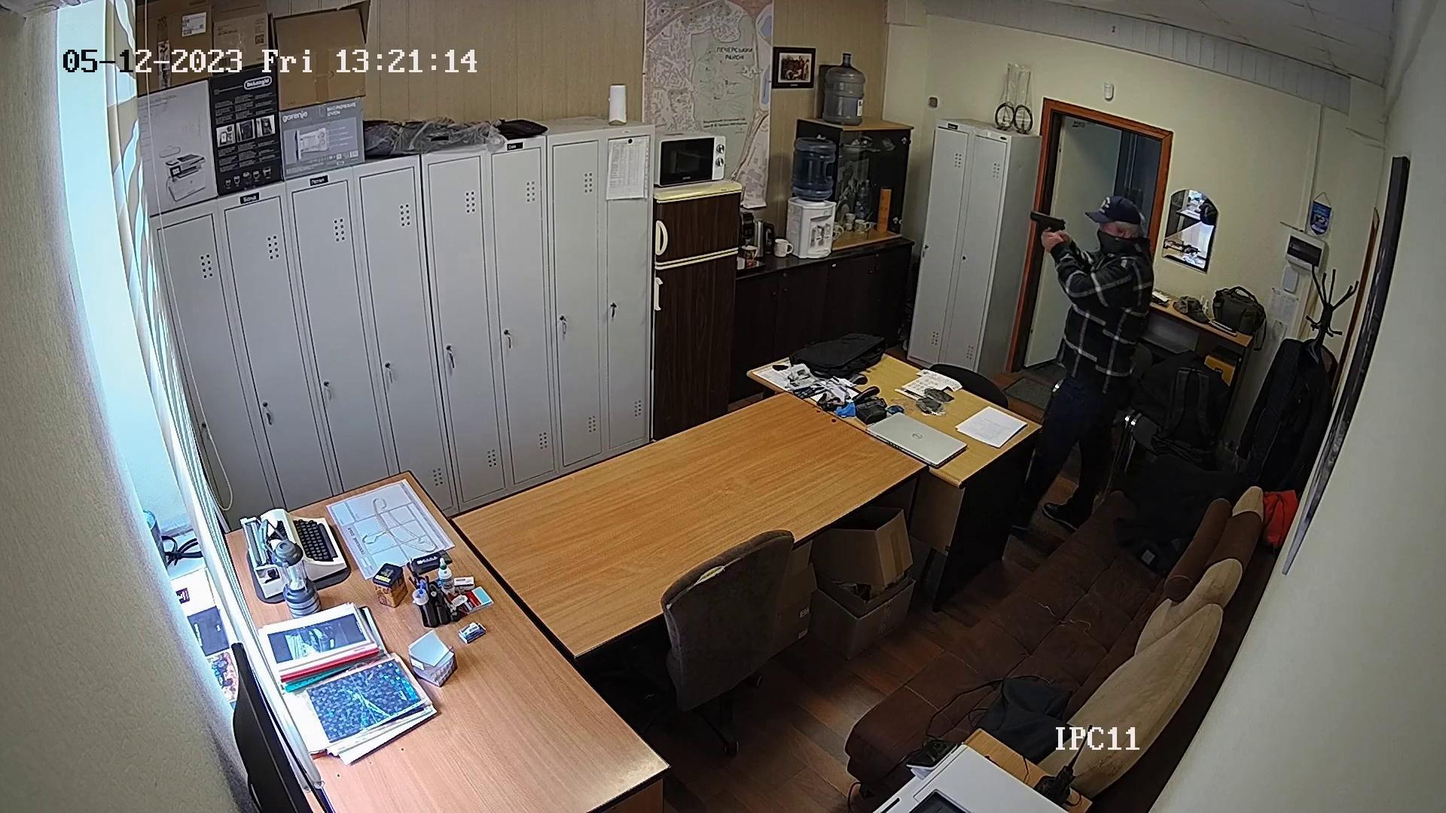person: (1010, 194, 1156, 532)
pistol: (1028, 207, 1069, 240)
